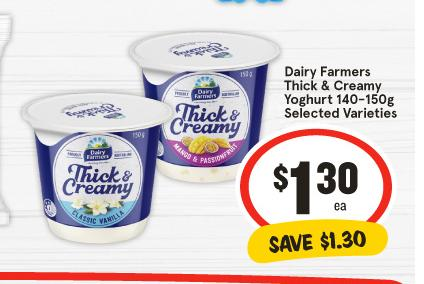description_block: (272, 53, 405, 129)
price_main: (242, 140, 388, 222)
product_image_block: (14, 20, 258, 246)
promo_text_block: (236, 217, 390, 264)
